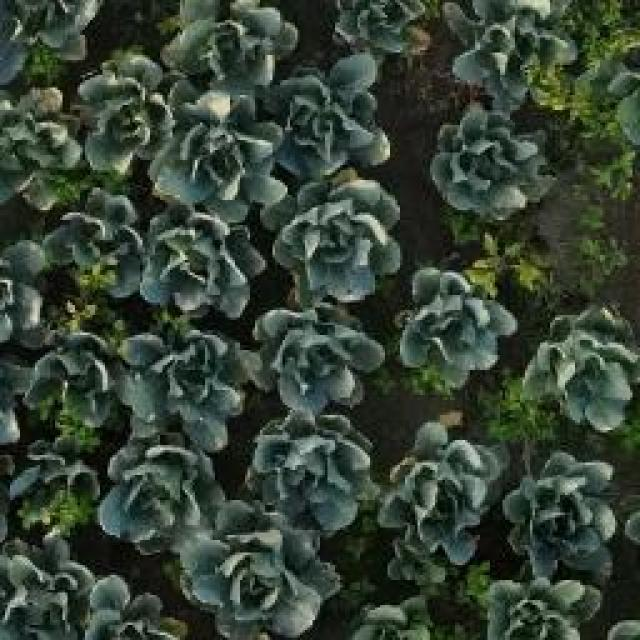cabbage: (186, 504, 334, 638), (271, 182, 404, 312), (152, 99, 288, 210), (246, 412, 371, 530), (386, 427, 490, 561), (247, 301, 372, 412), (120, 335, 242, 447), (506, 460, 621, 574), (102, 435, 212, 553), (530, 312, 640, 427), (277, 71, 389, 183), (37, 184, 151, 294), (165, 0, 296, 94), (145, 216, 262, 316), (455, 0, 570, 100), (402, 280, 504, 391), (79, 54, 172, 170), (434, 117, 545, 210), (26, 323, 118, 423), (0, 554, 90, 640), (487, 574, 599, 640), (339, 0, 442, 66)
